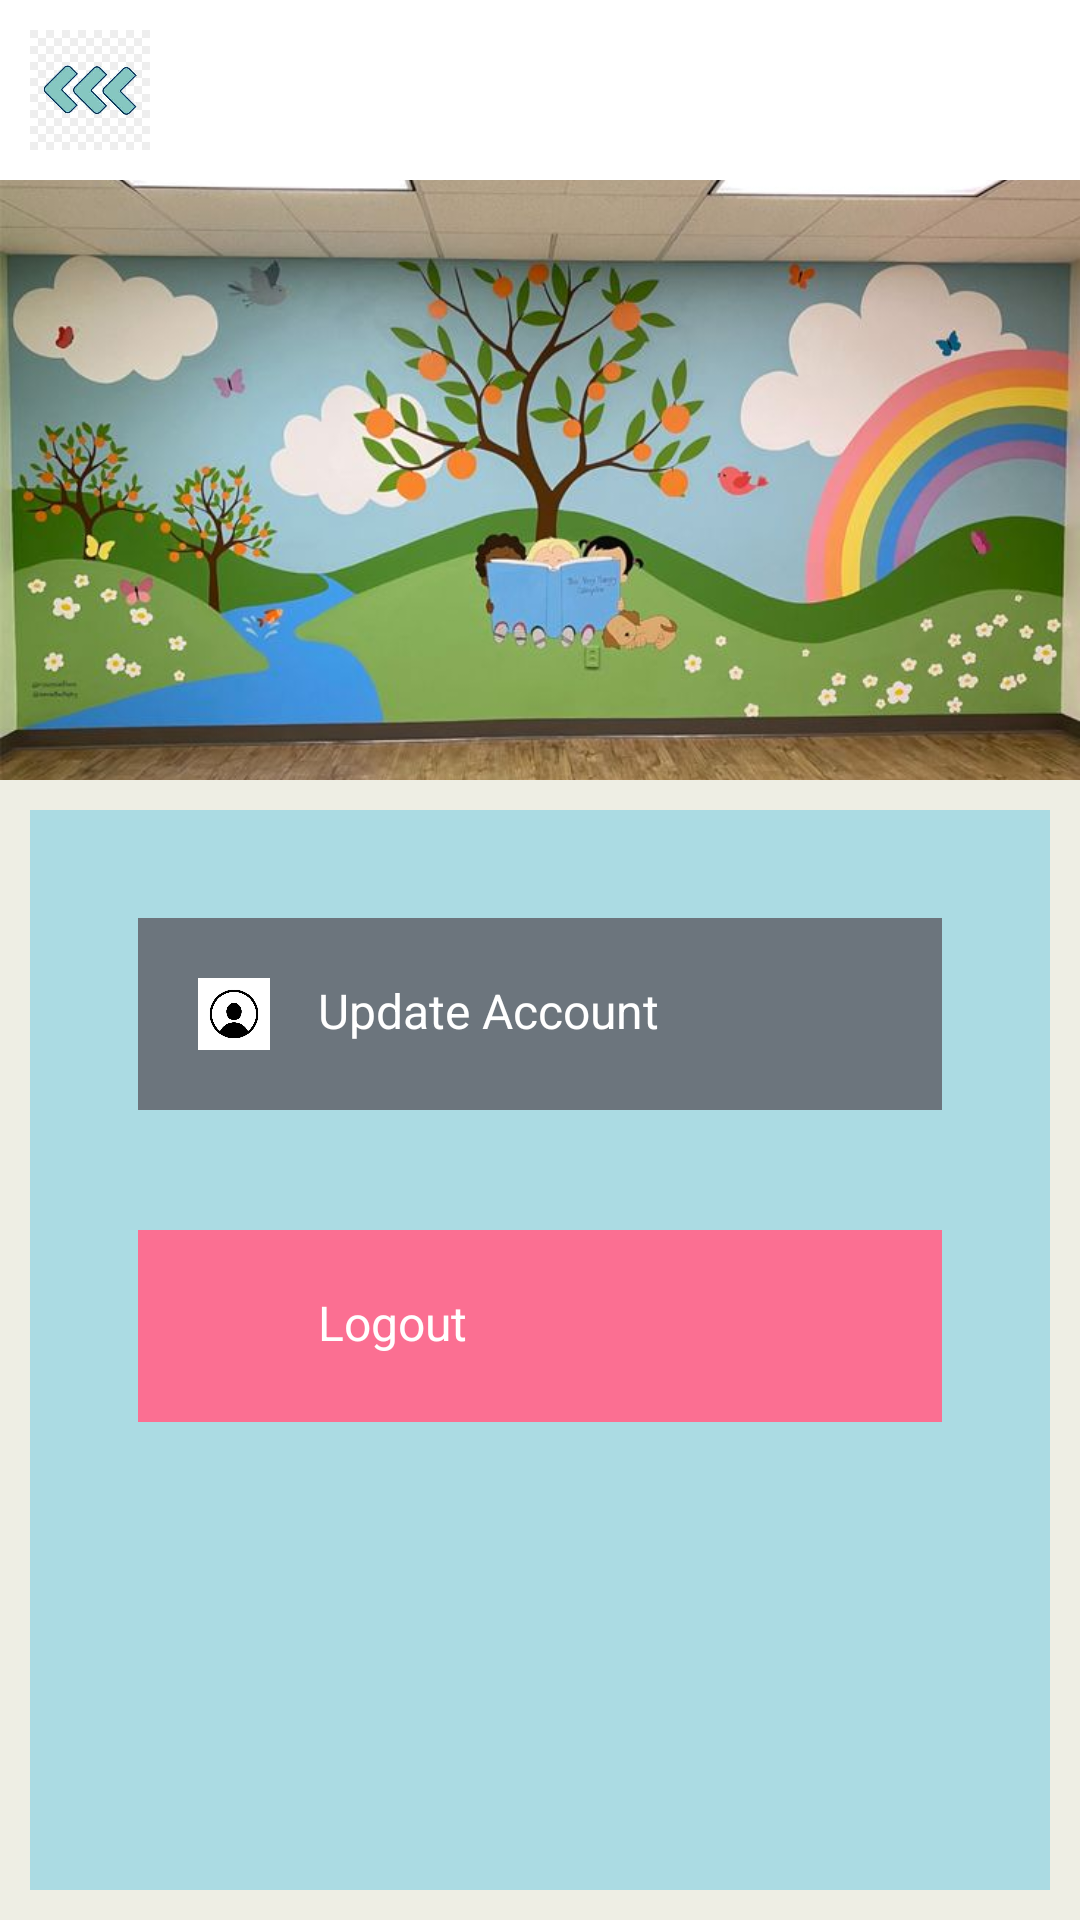

Locate icon controls on the screen. Image size 1080w x 1920h, boxes as [x1, y1, x2, y2].
back: [43, 65, 137, 115]
